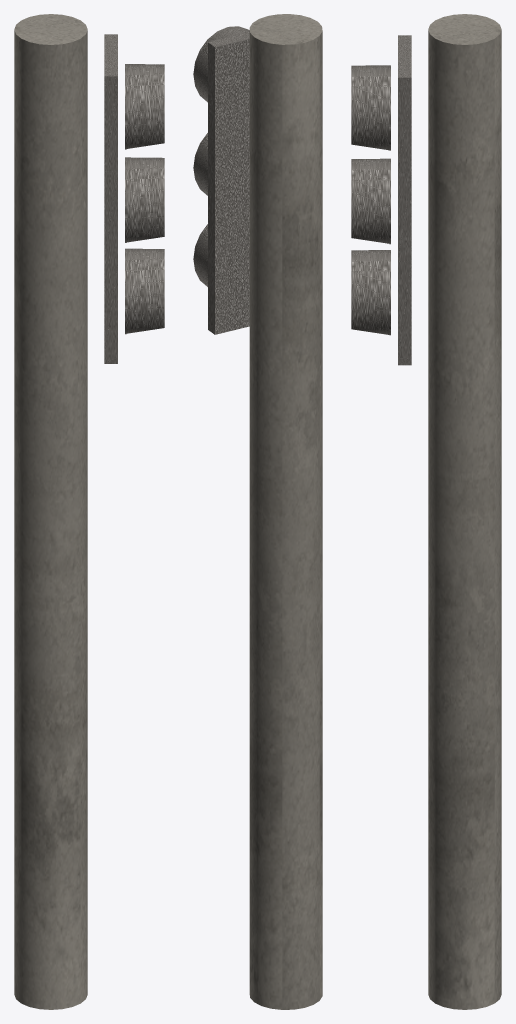
The model's file is traffic_light.fbx.
3 views of the same model, side by side, from view 1: azimuth 90°, elevation 25°; view 2: azimuth 210°, elevation 25°; view 3: azimuth 270°, elevation 25° (orthographic).
Visible parts, largest first — view 1: pCylinder1, pCube59, pCylinder9, pCylinder10, pCylinder8; view 2: pCylinder1, pCube59, pCylinder8, pCylinder9, pCylinder10; view 3: pCylinder1, pCube59, pCylinder8, pCylinder9, pCylinder10.
Part boxes in pixels (box(x1,y1,x2,y2)): pCylinder1: box(14, 14, 87, 1009); pCube59: box(104, 34, 117, 363); pCylinder9: box(125, 157, 164, 242); pCylinder10: box(125, 248, 164, 334); pCylinder8: box(125, 64, 164, 149); pCylinder1: box(249, 14, 322, 1009); pCube59: box(208, 32, 249, 334); pCylinder8: box(193, 26, 249, 102); pCylinder9: box(193, 133, 207, 195); pCylinder10: box(193, 224, 207, 286); pCylinder1: box(428, 14, 501, 1009); pCube59: box(398, 35, 411, 365); pCylinder8: box(351, 65, 390, 150); pCylinder9: box(351, 158, 390, 244); pCylinder10: box(351, 250, 390, 335).
Bounding box in the file's own units: 27.47 × 293 × 41.38.
